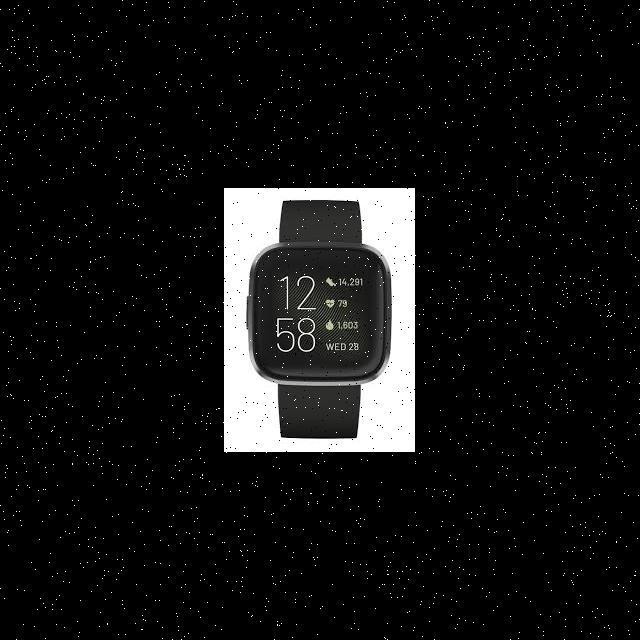watch: (240, 200, 408, 447)
